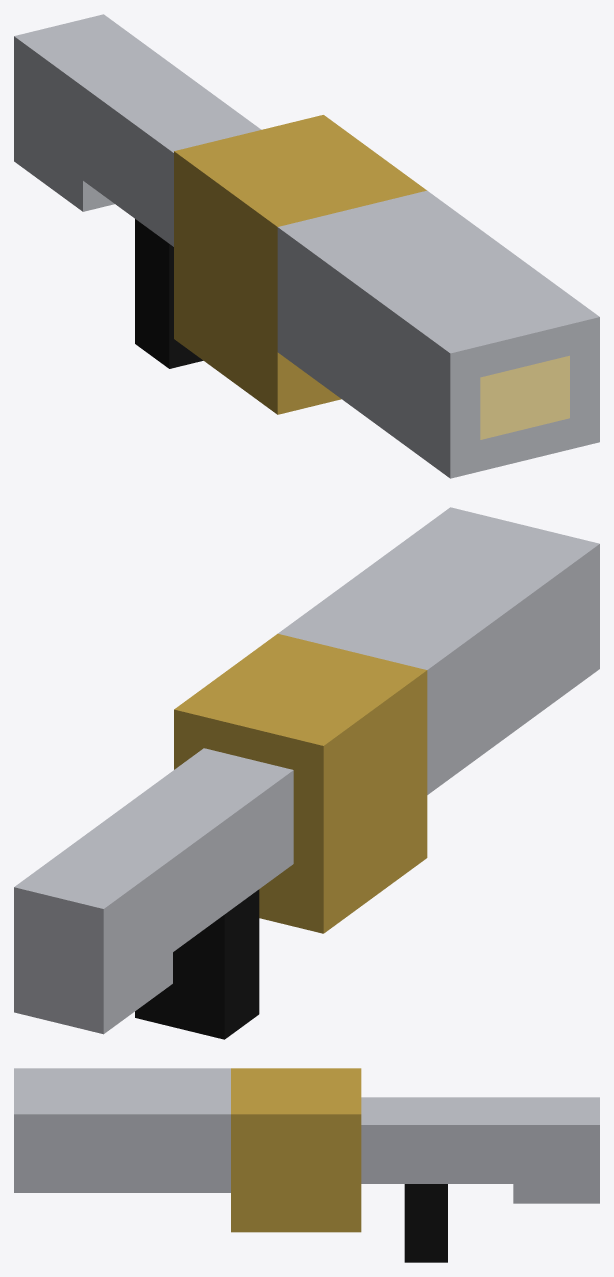
File: vox_gl_star.glb
3 renders of one model, top to bottom at view 1: azimuth 30°, elevation 25°; view 2: azimuth 150°, elevation 25°; view 3: azimuth 270°, elevation 25°, orthographic. The views are drawn at different scales.
Visible parts, largest first — view 1: vox_gl_star; view 2: vox_gl_star; view 3: vox_gl_star.
Boxes of the visible parts, box(x1,y1,x2,y2) form: vox_gl_star: box(14, 14, 599, 478); vox_gl_star: box(14, 507, 599, 1039); vox_gl_star: box(14, 1068, 599, 1262).
Bounding box in the file's own units: 0.1 × 0.16 × 0.54.
